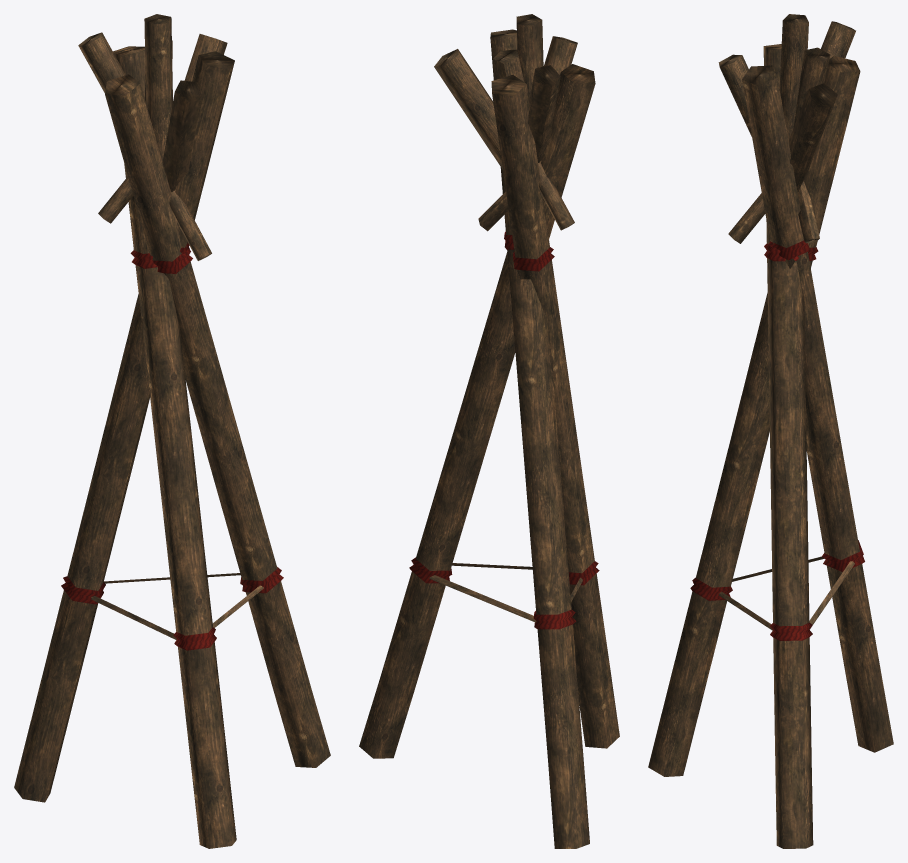
The model's file is h25lig50.obj.
3 views of the same model, side by side, from view 1: azimuth 30°, elevation 25°; view 2: azimuth 150°, elevation 25°; view 3: azimuth 270°, elevation 25° (orthographic). The views are drawn at different scales.
Visible parts, largest first — view 1: polySurface17_polySurface10Shape; view 2: polySurface17_polySurface10Shape; view 3: polySurface17_polySurface10Shape.
Boxes of the visible parts, bbox=[...] form: polySurface17_polySurface10Shape: bbox=[14, 14, 330, 848]; polySurface17_polySurface10Shape: bbox=[359, 14, 619, 848]; polySurface17_polySurface10Shape: bbox=[648, 14, 893, 848].
Size of the model in its own units: 0.9934 by 2.82 by 0.8192.
Materials: 1 (1 with a texture image).
